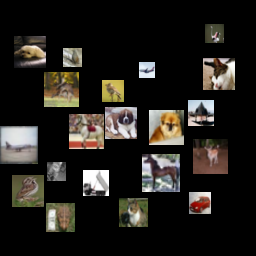airplane: (0, 126, 38, 164), (188, 100, 214, 126), (139, 62, 155, 78)
automobile: (189, 192, 211, 214)
bird: (12, 175, 44, 207), (102, 80, 124, 102), (205, 24, 224, 43), (63, 48, 82, 67)
cat: (203, 58, 235, 90), (119, 198, 148, 227), (47, 162, 66, 181)
deer: (44, 72, 79, 107), (193, 139, 228, 174)
dog: (149, 110, 184, 145), (14, 36, 46, 68), (105, 107, 137, 139)
frog: (46, 203, 75, 232)
